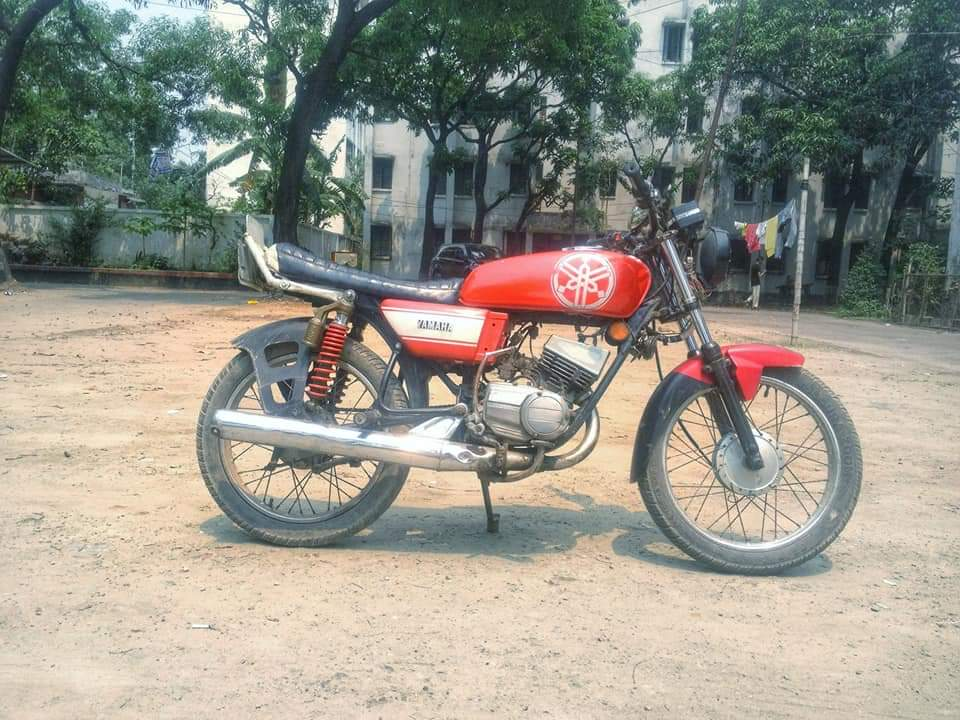bike: (188, 161, 870, 577)
